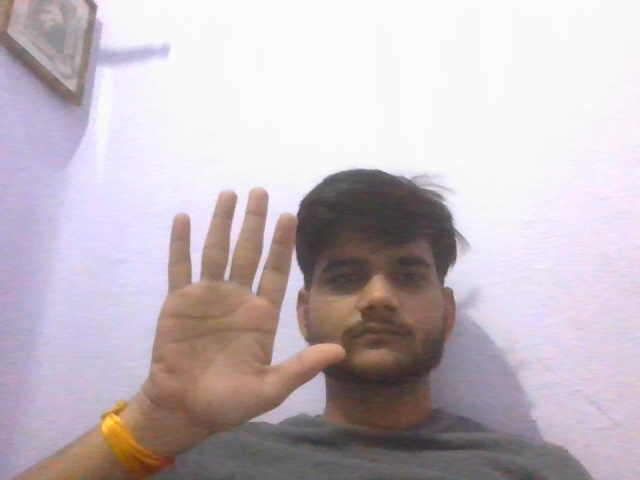hello: (124, 184, 347, 442)
